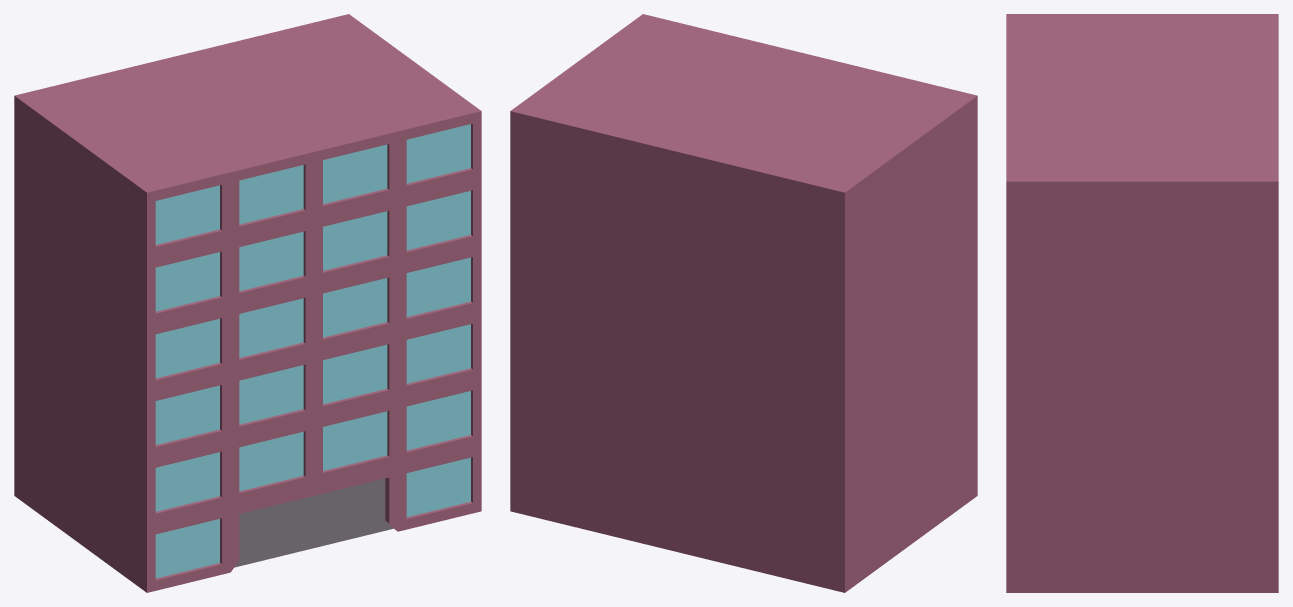
The model's file is Bill2.fbx.
3 renders of one model, left to right at view 1: azimuth 30°, elevation 25°; view 2: azimuth 150°, elevation 25°; view 3: azimuth 270°, elevation 25°, orthographic. The views are drawn at different scales.
Visible parts, largest first — view 1: Bill; view 2: Bill; view 3: Bill.
Boxes of the visible parts, x1,y1,x2,y2 form: Bill: (14,14,481,592); Bill: (510,14,977,592); Bill: (1006,14,1278,592).
Size of the model in its own units: 1400 by 1600 by 961.
